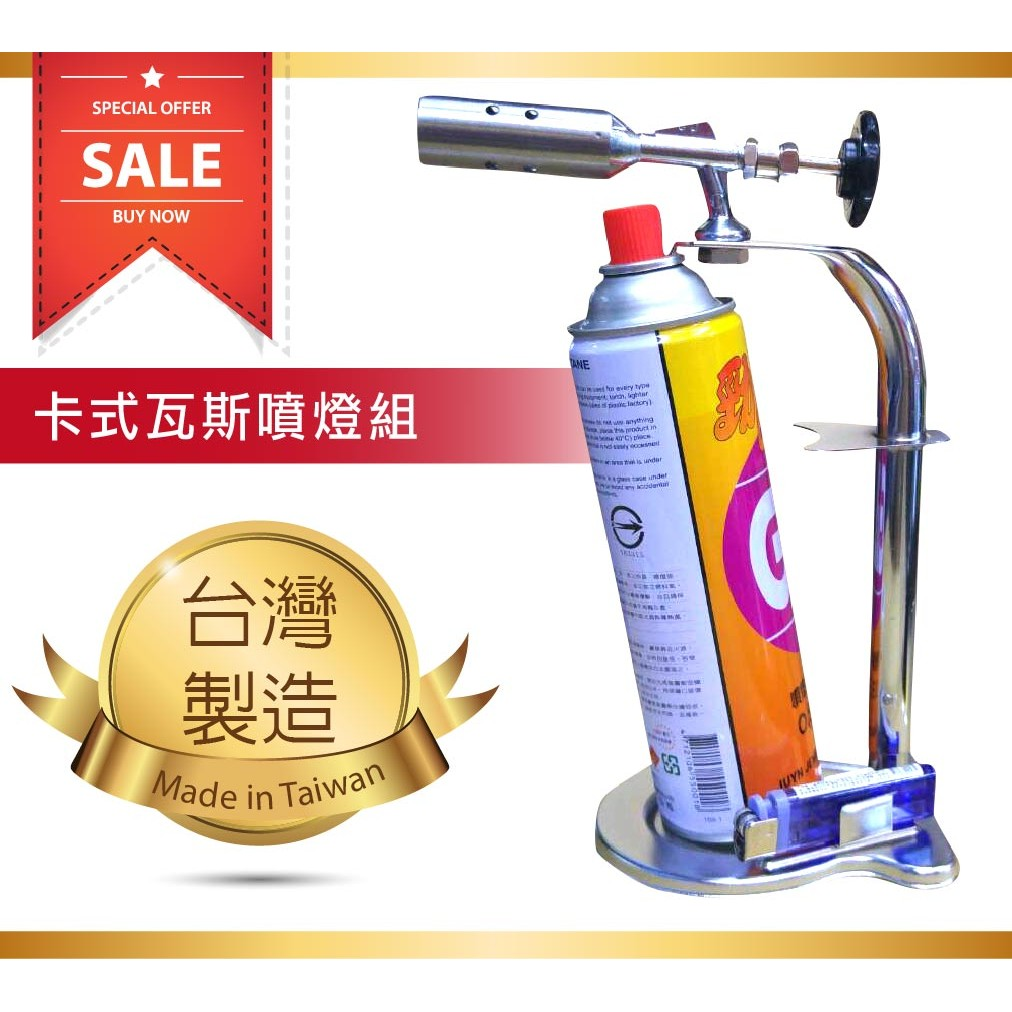gastorch: (415, 94, 957, 889)
